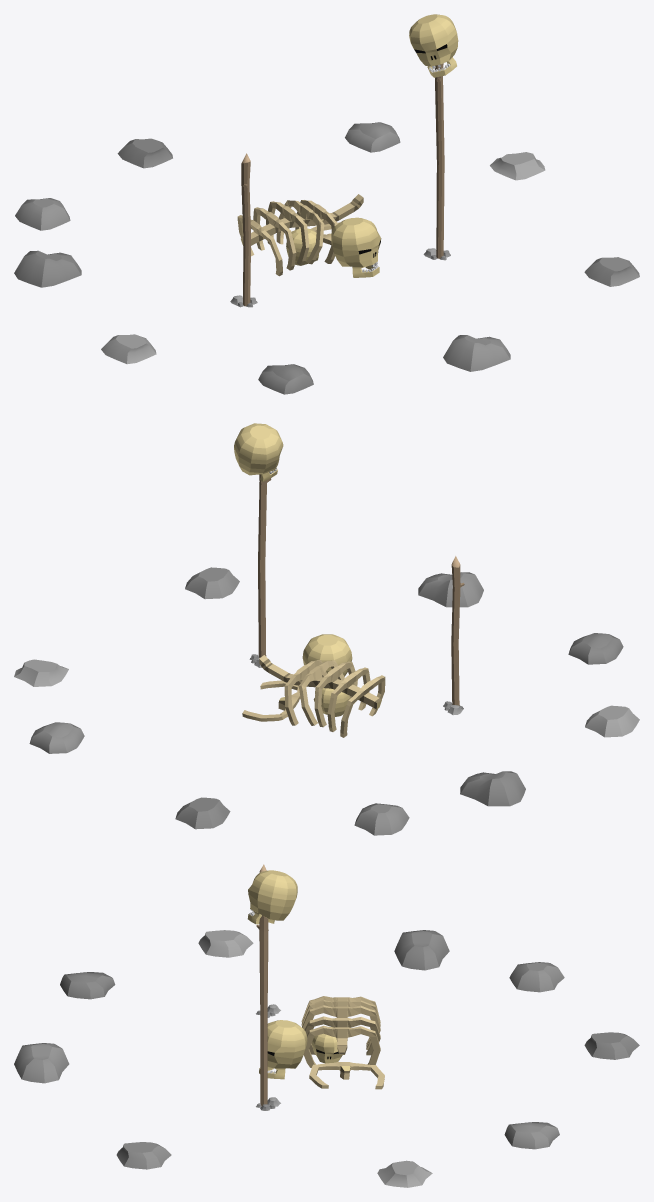
The model's file is rocas.fbx.
3 views of the same model, one above another, from view 1: azimuth 30°, elevation 25°; view 2: azimuth 150°, elevation 25°; view 3: azimuth 270°, elevation 25° (orthographic).
Visible parts, largest first — view 1: Columna3, Cabeza_Entera3_2, Cabeza_Entera3, Roca_Extrana_13, Roca_Extrana_10, Estaca_2, Roca_Extrana_14, Roca_Extrana_11, Roca_Extrana_7, Estaca, Roca_Extrana_9, Roca_Extrana_6 (+2 smaller); view 2: Columna3, Cabeza_Entera3, Roca_Extrana_13, Roca_Extrana_10, Estaca_2, Roca_Extrana_14, Roca_Extrana_11, Roca_Extrana_7, Roca_Extrana_9, Roca_Extrana_12, Roca_Extrana_6, Cabeza_Entera3_2 (+3 smaller); view 3: Columna3, Cabeza_Entera3, Cabeza_Entera3_2, Roca_Extrana_13, Roca_Extrana_10, Estaca_2, Roca_Extrana_14, Roca_Extrana_7, Roca_Extrana_11, Roca_Extrana_9, Roca_Extrana_6, Roca_Extrana_12 (+3 smaller).
Boxes of the visible parts, bbox=[...] form: Columna3: bbox=[237, 194, 363, 276]; Cabeza_Entera3_2: bbox=[331, 217, 381, 277]; Cabeza_Entera3: bbox=[409, 14, 458, 77]; Roca_Extrana_13: bbox=[14, 250, 81, 287]; Roca_Extrana_10: bbox=[443, 335, 510, 371]; Estaca_2: bbox=[435, 63, 444, 258]; Roca_Extrana_14: bbox=[15, 198, 70, 230]; Roca_Extrana_11: bbox=[258, 364, 313, 394]; Roca_Extrana_7: bbox=[345, 122, 400, 152]; Estaca: bbox=[241, 153, 250, 306]; Roca_Extrana_9: bbox=[584, 257, 639, 286]; Roca_Extrana_6: bbox=[117, 138, 172, 168]; Columna3: bbox=[259, 655, 385, 737]; Cabeza_Entera3: bbox=[234, 423, 283, 482]; Roca_Extrana_13: bbox=[460, 771, 525, 806]; Roca_Extrana_10: bbox=[418, 572, 483, 607]; Estaca_2: bbox=[258, 474, 271, 657]; Roca_Extrana_14: bbox=[354, 803, 409, 835]; Roca_Extrana_11: bbox=[568, 633, 623, 664]; Roca_Extrana_7: bbox=[29, 722, 84, 753]; Roca_Extrana_9: bbox=[185, 567, 239, 599]; Roca_Extrana_12: bbox=[585, 705, 639, 737]; Roca_Extrana_6: bbox=[175, 797, 230, 829]; Cabeza_Entera3_2: bbox=[302, 634, 352, 676]; Columna3: bbox=[301, 996, 380, 1067]; Cabeza_Entera3: bbox=[247, 870, 297, 924]; Cabeza_Entera3_2: bbox=[259, 1020, 307, 1079]; Roca_Extrana_13: bbox=[394, 930, 449, 970]; Roca_Extrana_10: bbox=[14, 1043, 69, 1083]; Estaca_2: bbox=[256, 915, 268, 1106]; Roca_Extrana_14: bbox=[509, 962, 564, 992]; Roca_Extrana_7: bbox=[504, 1122, 559, 1149]; Roca_Extrana_11: bbox=[60, 972, 115, 999]; Roca_Extrana_9: bbox=[116, 1142, 171, 1169]; Roca_Extrana_6: bbox=[584, 1032, 639, 1059]; Roca_Extrana_12: bbox=[198, 930, 253, 957].
Bounding box in the file's own units: 6.44 × 2.83 × 6.77.
